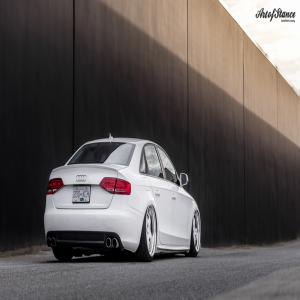Vehicle-registration-plate: (73, 186, 92, 203)
